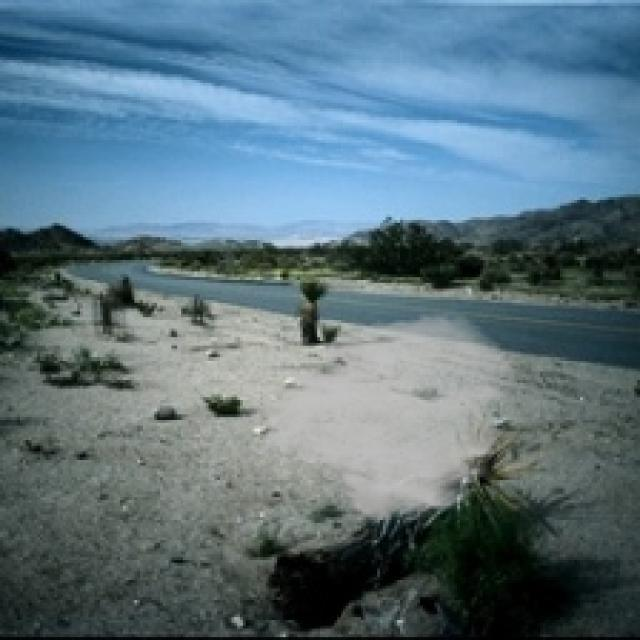Smoke: (245, 311, 520, 526)
